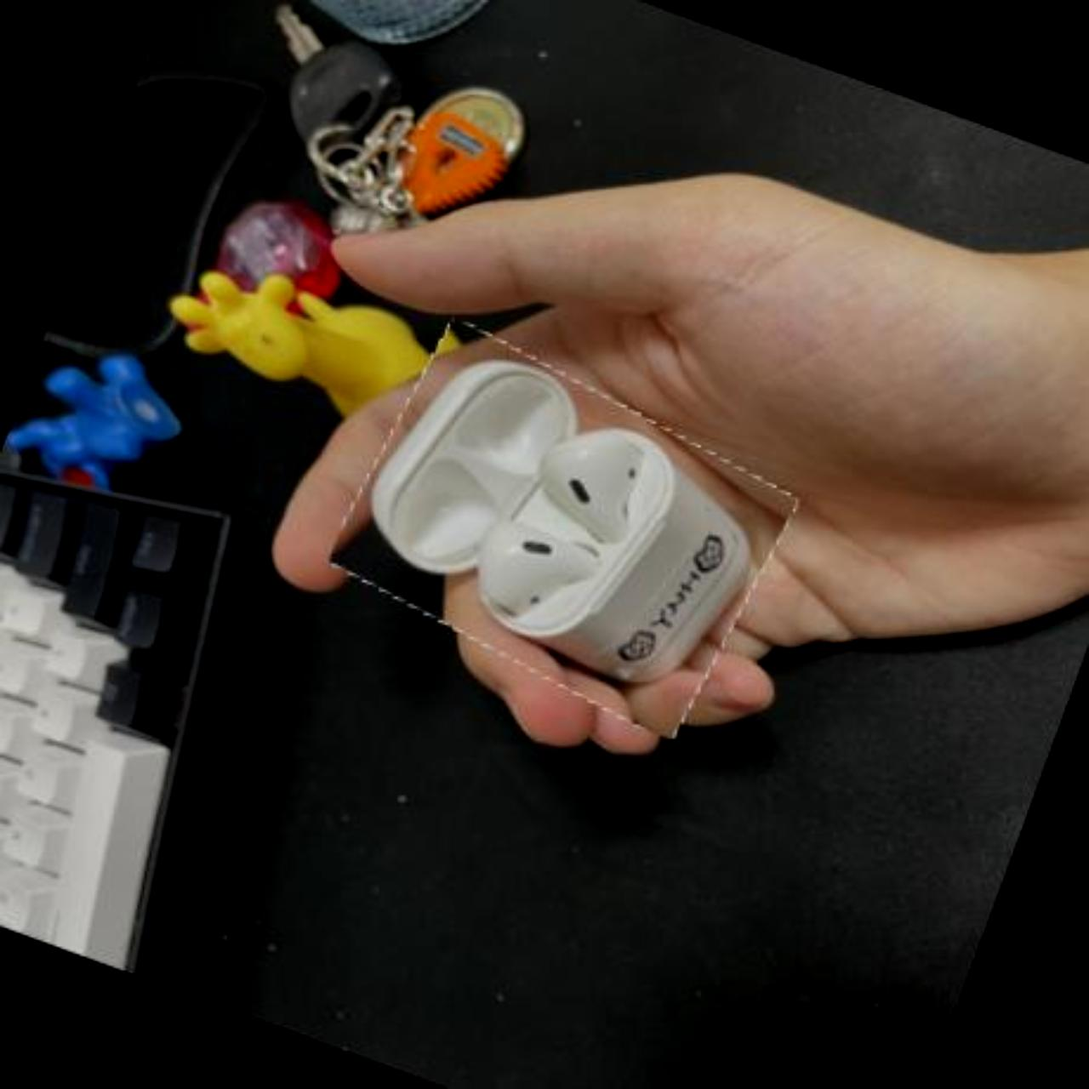AirPods: (318, 319, 803, 741)
